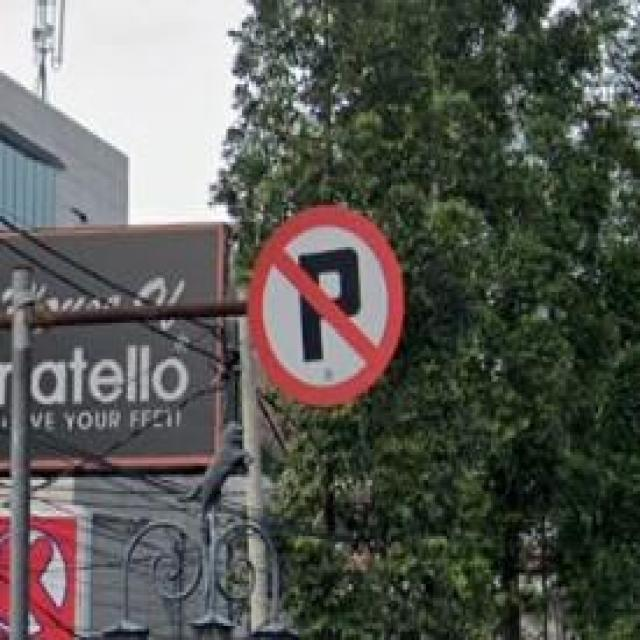traffic sign: (247, 205, 406, 407)
